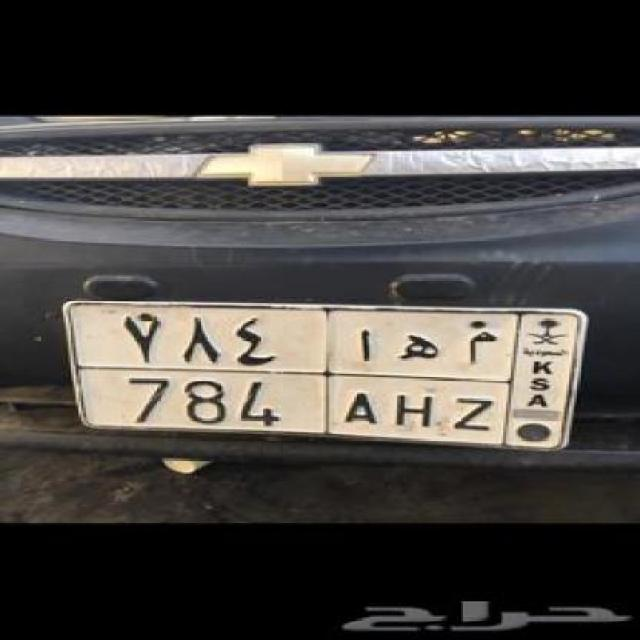license_plate: (60, 298, 592, 457)
